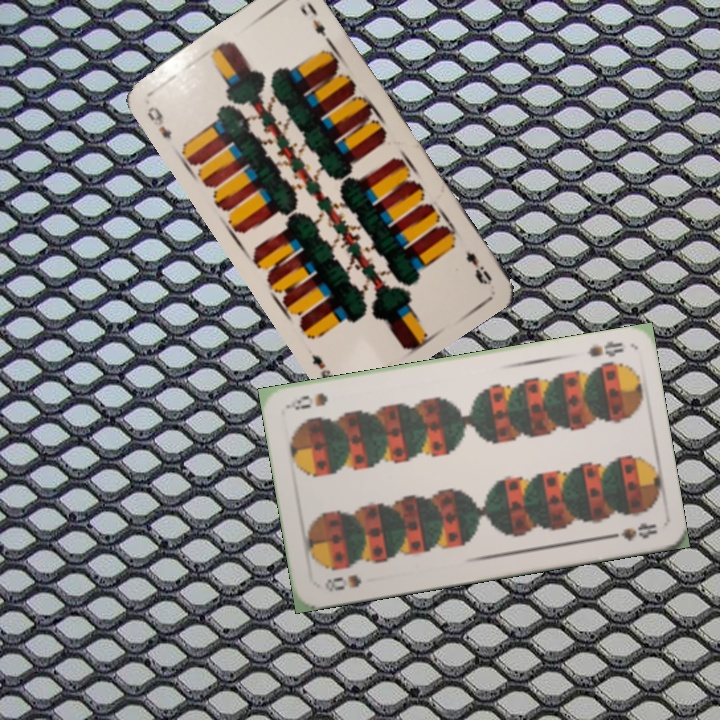E9: (462, 247, 495, 288), (142, 102, 175, 141)
S8: (321, 570, 364, 594), (583, 337, 626, 360)
